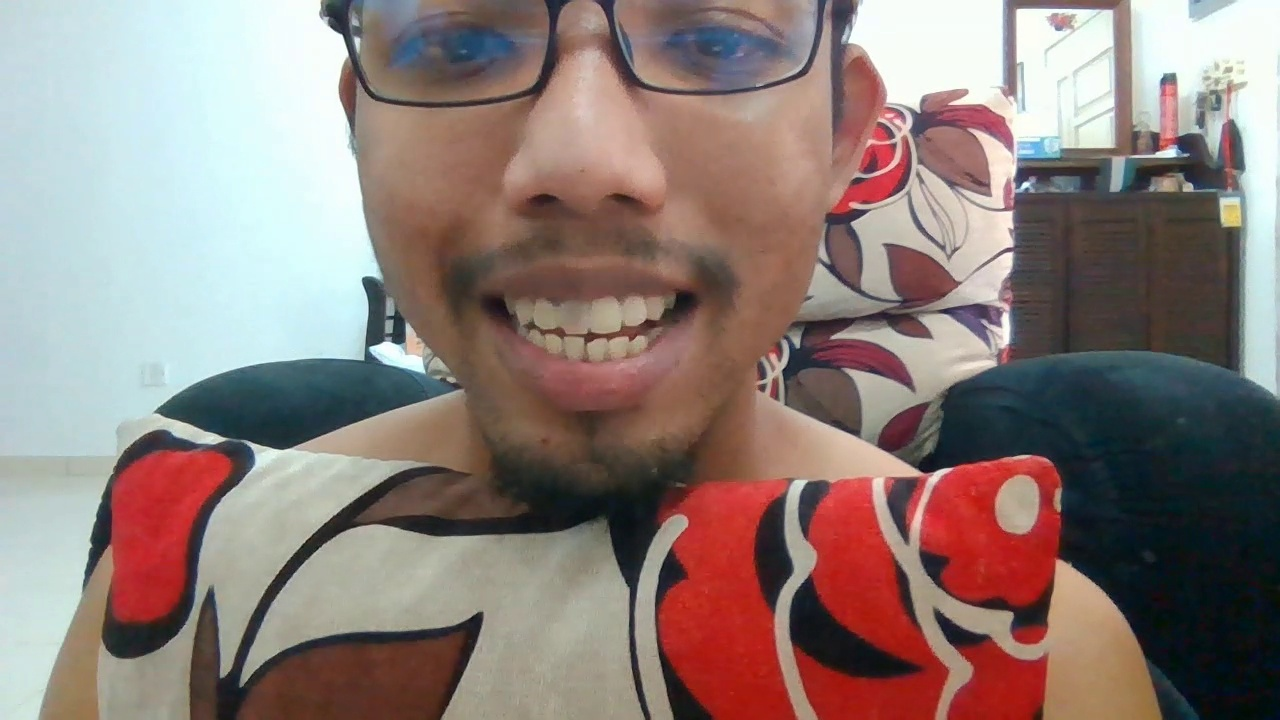1st Premolar: (504, 291, 514, 315), (667, 289, 678, 309)
Canine: (514, 294, 530, 327), (649, 291, 666, 322), (630, 334, 649, 357)
Central Incisor: (588, 295, 622, 334), (558, 298, 588, 335), (586, 336, 609, 362), (564, 337, 585, 361)
Lateral Incisor: (532, 295, 557, 330), (623, 293, 648, 328), (610, 335, 630, 362), (544, 333, 563, 356)
